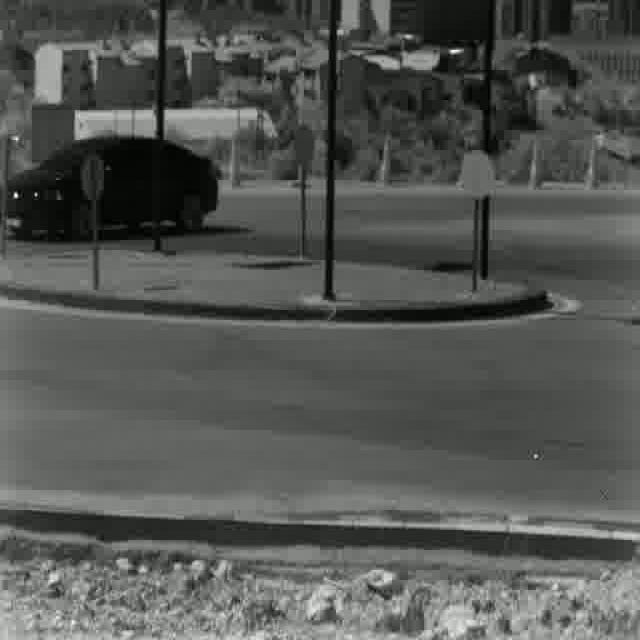Car: (1, 133, 218, 236)
